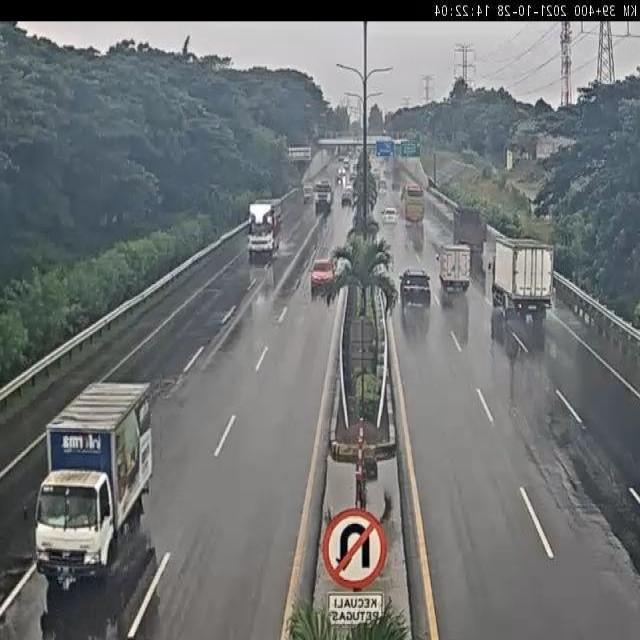Bus: (402, 183, 426, 222)
Car: (398, 269, 432, 308), (310, 256, 338, 294), (381, 207, 398, 224), (340, 191, 352, 208), (378, 178, 388, 196), (344, 180, 353, 191)
Truck: (22, 380, 154, 587), (487, 236, 558, 319), (247, 197, 282, 256), (438, 244, 471, 295), (452, 206, 488, 252), (314, 179, 333, 212), (302, 181, 314, 204), (391, 166, 401, 191)
